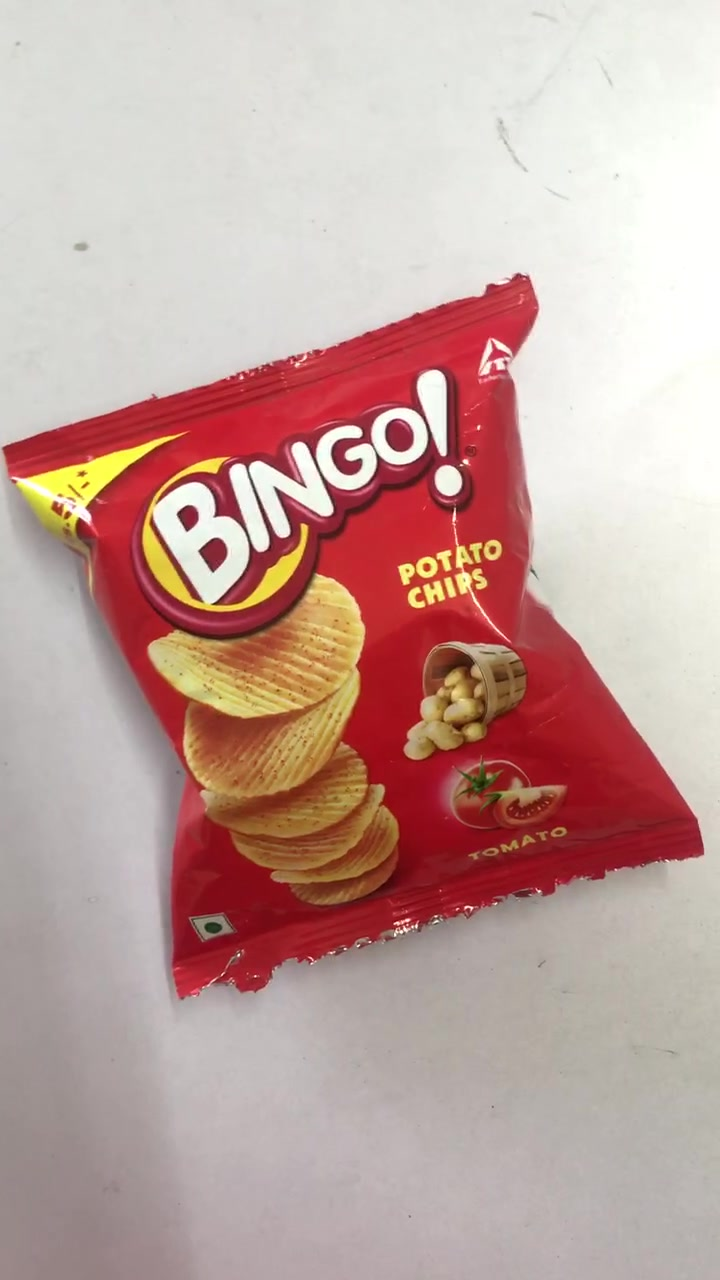Bingo: (10, 287, 695, 962)
